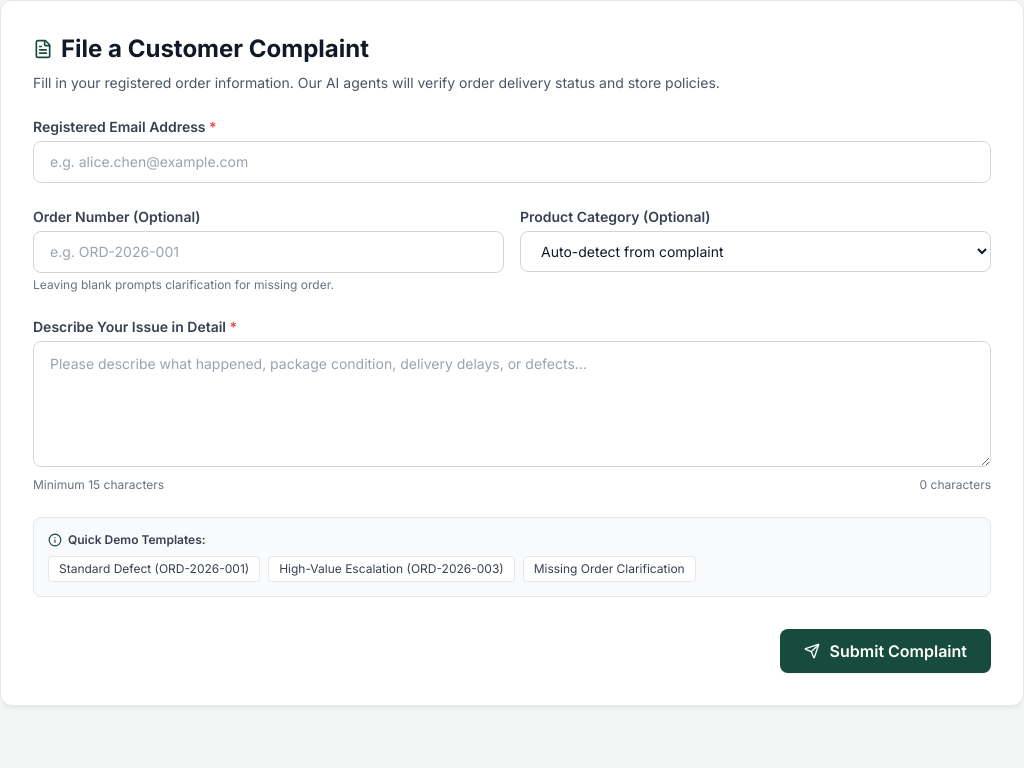
it: Customer Portal Components › CustomerComplaintForm › handles pending review status accurately without claiming final resolution
This screenshot has width=1024, height=768.
Type "bob.martinez@example.com" into the field labelled "Registered Email Address *" at (512,162), box [33,141,991,183]
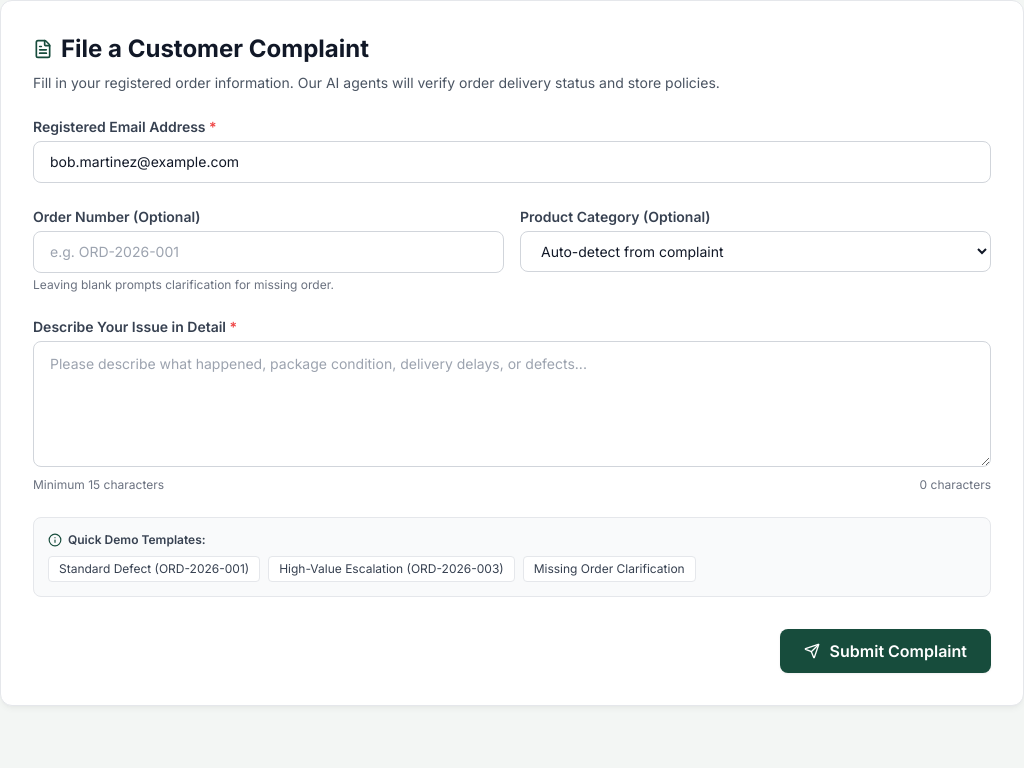
Replace the text in the text box labelled "Describe Your Issue in Detail *" with "Claiming refund for unopened smartphone returned yesterday." at (512,404), box [33,341,991,467]
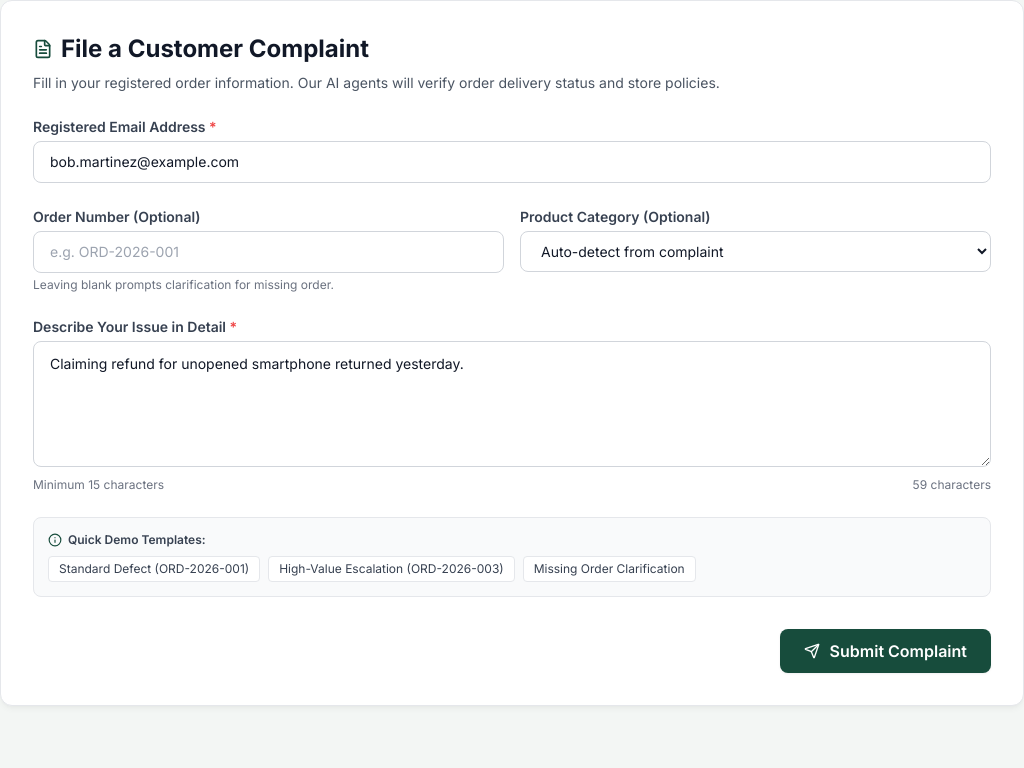
Click the button "Submit Complaint" at (885,651), box [780,629,991,673]
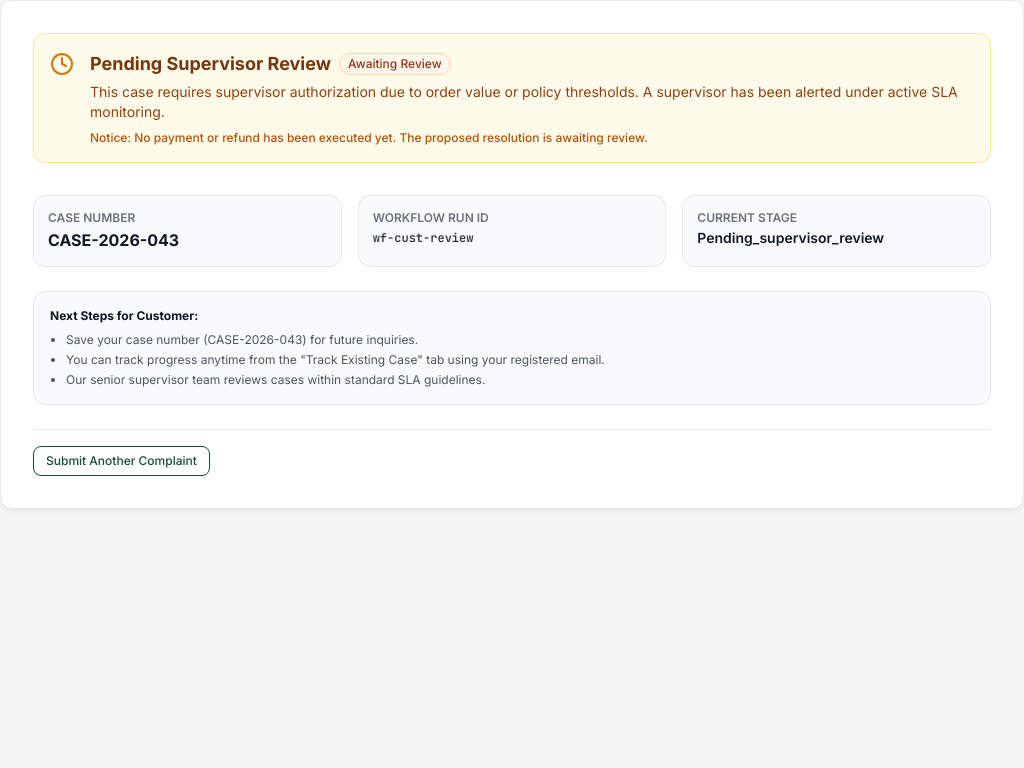
Check: the heading "Pending Supervisor Review" is shown, box [90,50,331,78]
Check: the text "This case requires supervisor authorization" is shown, box [90,83,958,120]
